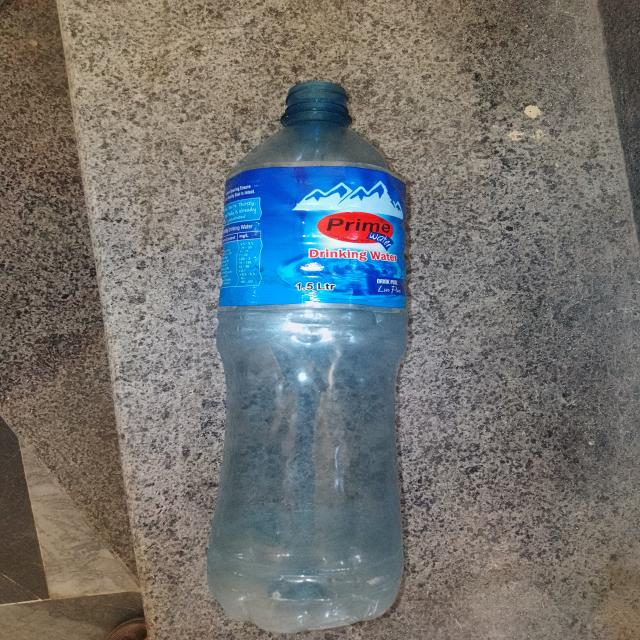bottle: (207, 67, 426, 640)
label: (220, 158, 415, 318)
